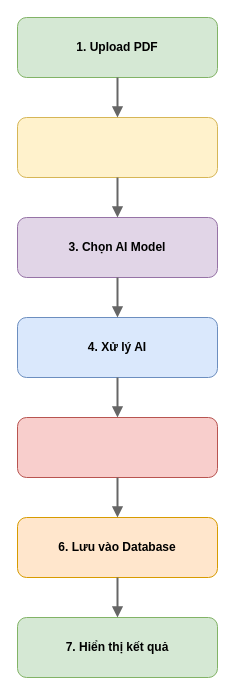
Image size: 235x695. Some labels were removed from this diagram. Each missing label, with the centre of its shape:
"2. Trích xuất Text" goes at point (117, 147).
"5. Phân tích kết quả" goes at point (117, 447).
